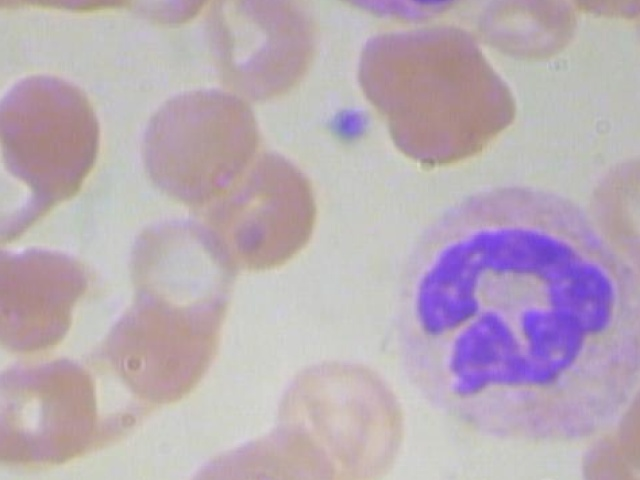Platelets: (321, 102, 379, 151)
RBC: (354, 17, 523, 175), (269, 351, 423, 480), (178, 144, 318, 277), (194, 0, 337, 105), (134, 88, 262, 203), (0, 350, 109, 475), (0, 71, 110, 190), (0, 237, 84, 359), (574, 149, 640, 296), (464, 0, 573, 61)
WBC: (381, 182, 640, 454)
